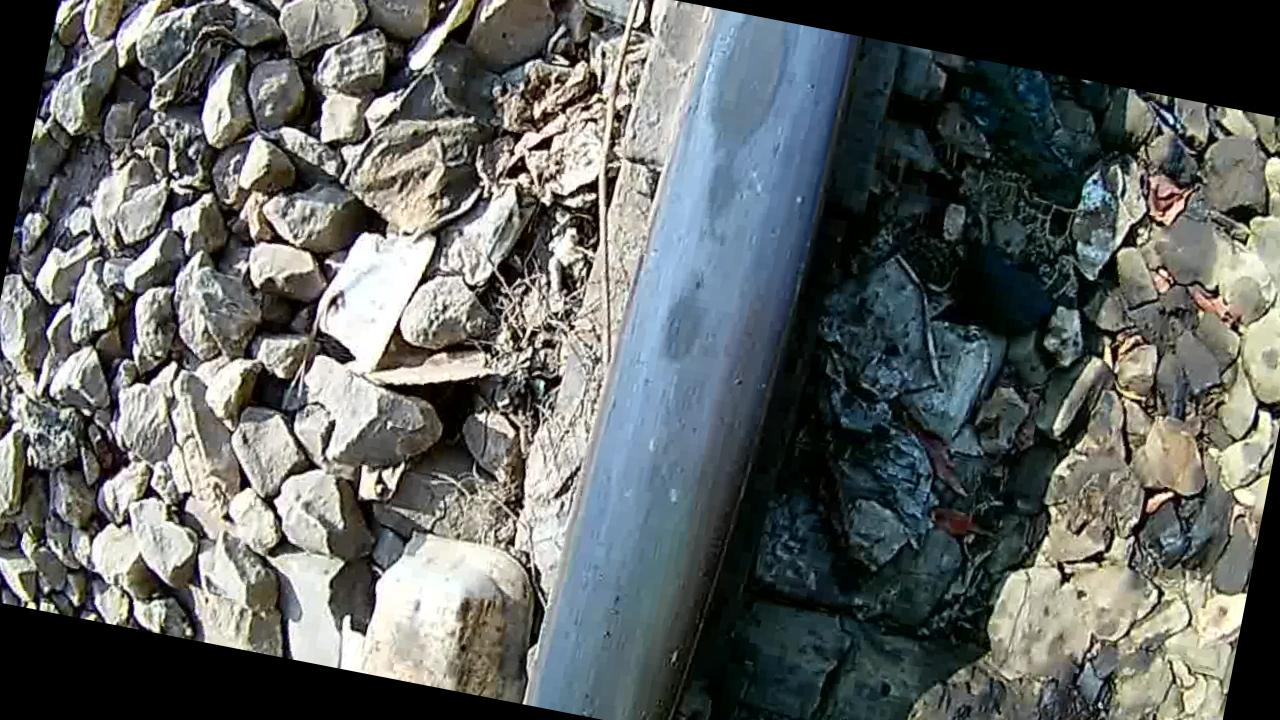bolt_missing: (623, 4, 834, 399)
